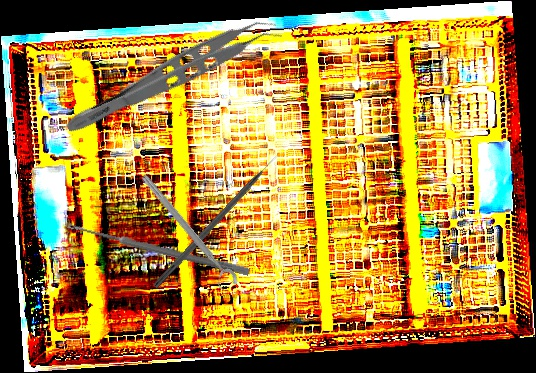Fixation Ring: (132, 171, 241, 295)
Hook Surgical: (152, 152, 283, 290)
Surgical Spoon: (64, 221, 251, 276)
Tissue Forceps: (62, 5, 284, 152)
